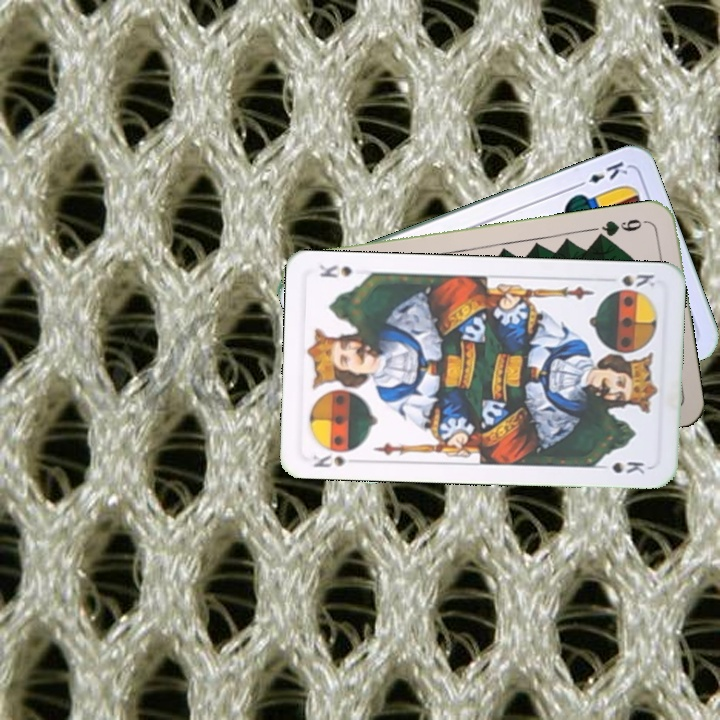EK: (572, 157, 631, 190)
G9: (593, 215, 651, 241)
SK: (308, 450, 363, 470), (617, 270, 657, 290)
